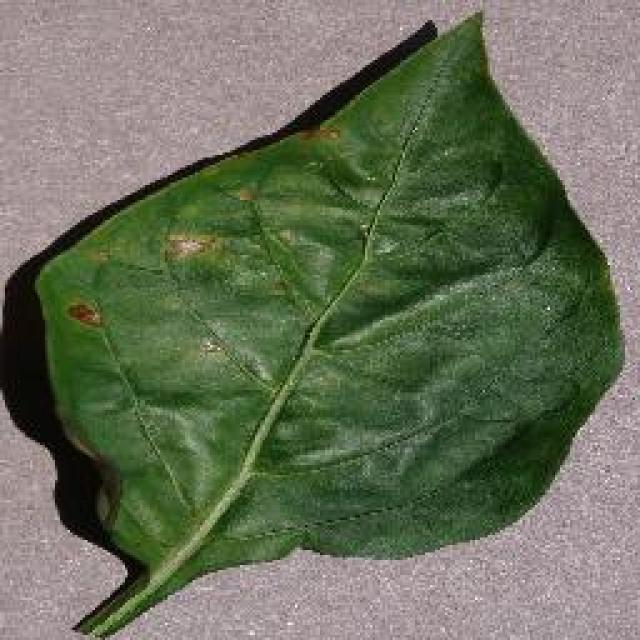Chilli_Bacterial_Spot: (20, 5, 628, 637), (87, 465, 125, 535), (158, 230, 218, 268), (60, 295, 105, 333), (295, 118, 345, 148), (192, 332, 228, 362), (230, 180, 260, 208)
